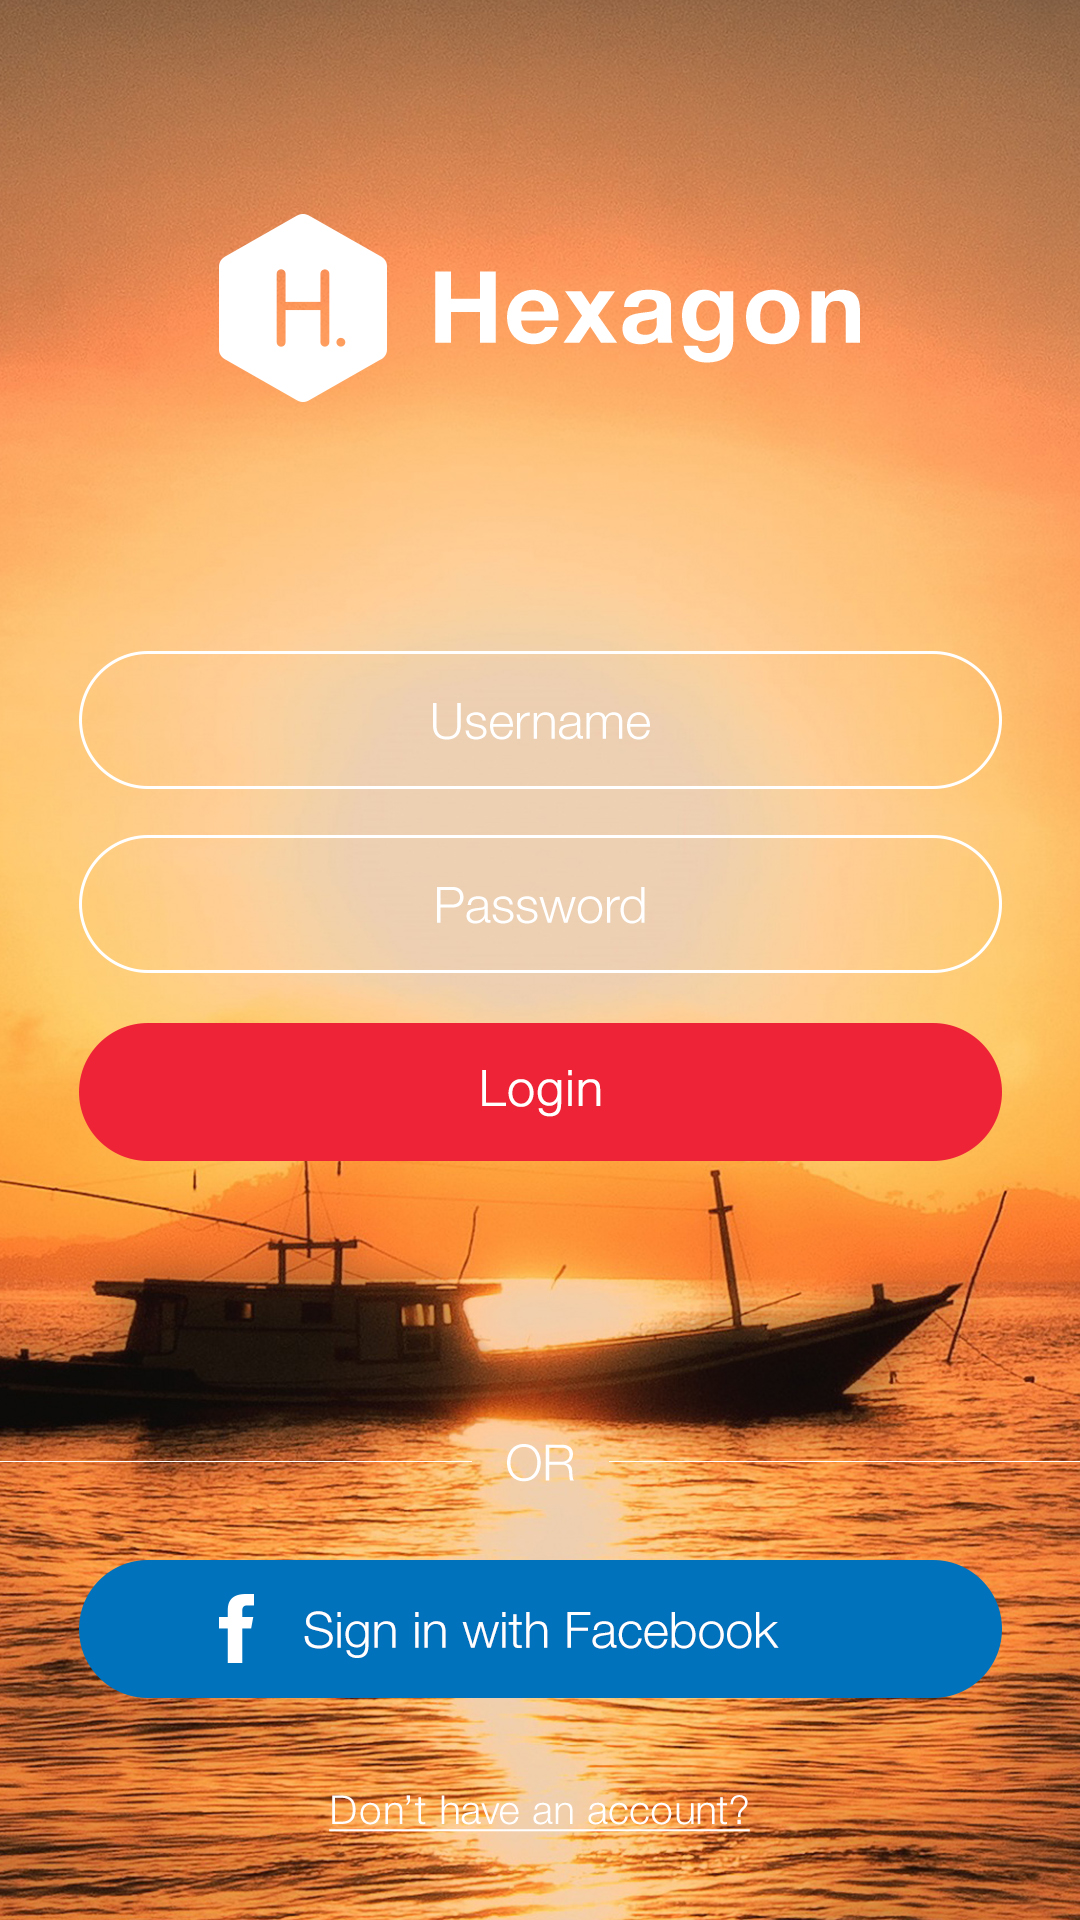BackgroundImage: (1, 1, 1080, 1920)
EditText: (79, 835, 1004, 975), (79, 651, 1004, 790)
Image: (219, 214, 388, 404)
Text: (435, 272, 861, 365), (328, 1793, 752, 1832), (433, 703, 651, 741), (436, 887, 646, 924), (506, 1443, 575, 1484)
TextButton: (79, 1559, 1004, 1698), (79, 1023, 1004, 1162)
